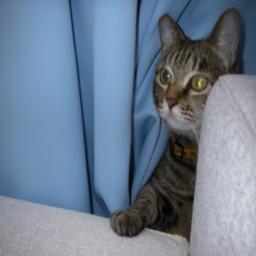catnose: (165, 96, 178, 110)
